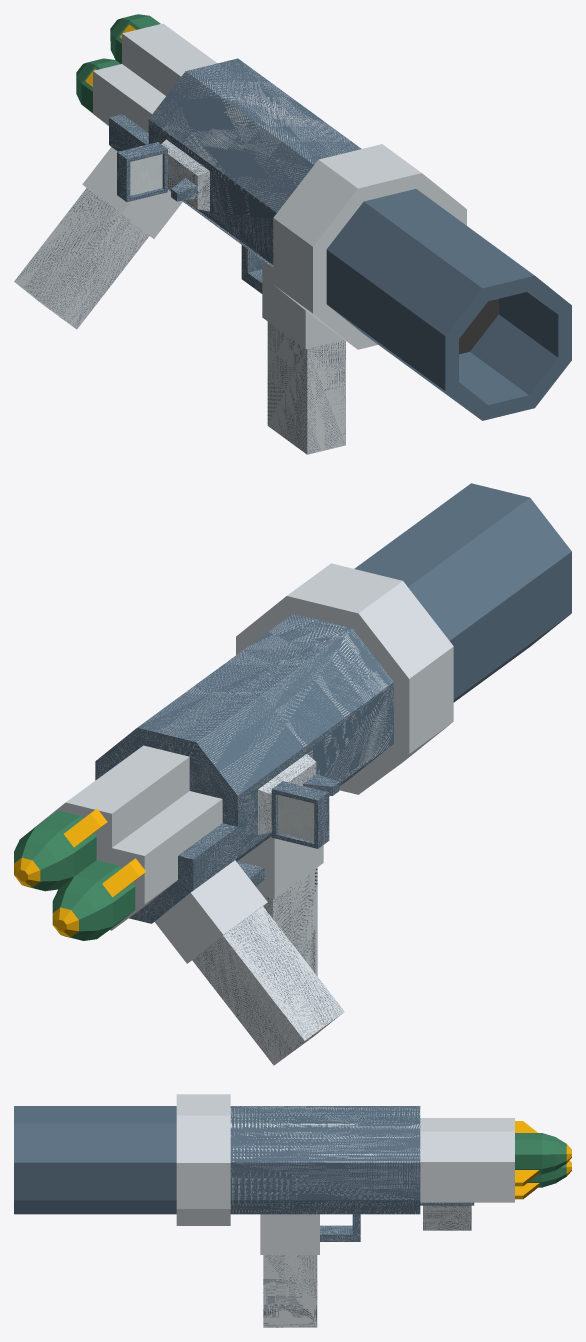
File: rocketlauncherModern.obj
3 renders of one model, top to bottom at view 1: azimuth 30°, elevation 25°; view 2: azimuth 150°, elevation 25°; view 3: azimuth 270°, elevation 25°, orthographic. The views are drawn at different scales.
Parts seen in each view (by area): view 1: Group; view 2: Group; view 3: Group.
Boxes of the visible parts, x1,y1,x2,y2 form: Group: (14,14,571,454); Group: (14,483,571,1065); Group: (14,1094,571,1327).
Bounding box in the file's own units: 0.265 × 0.3369 × 0.7886.
